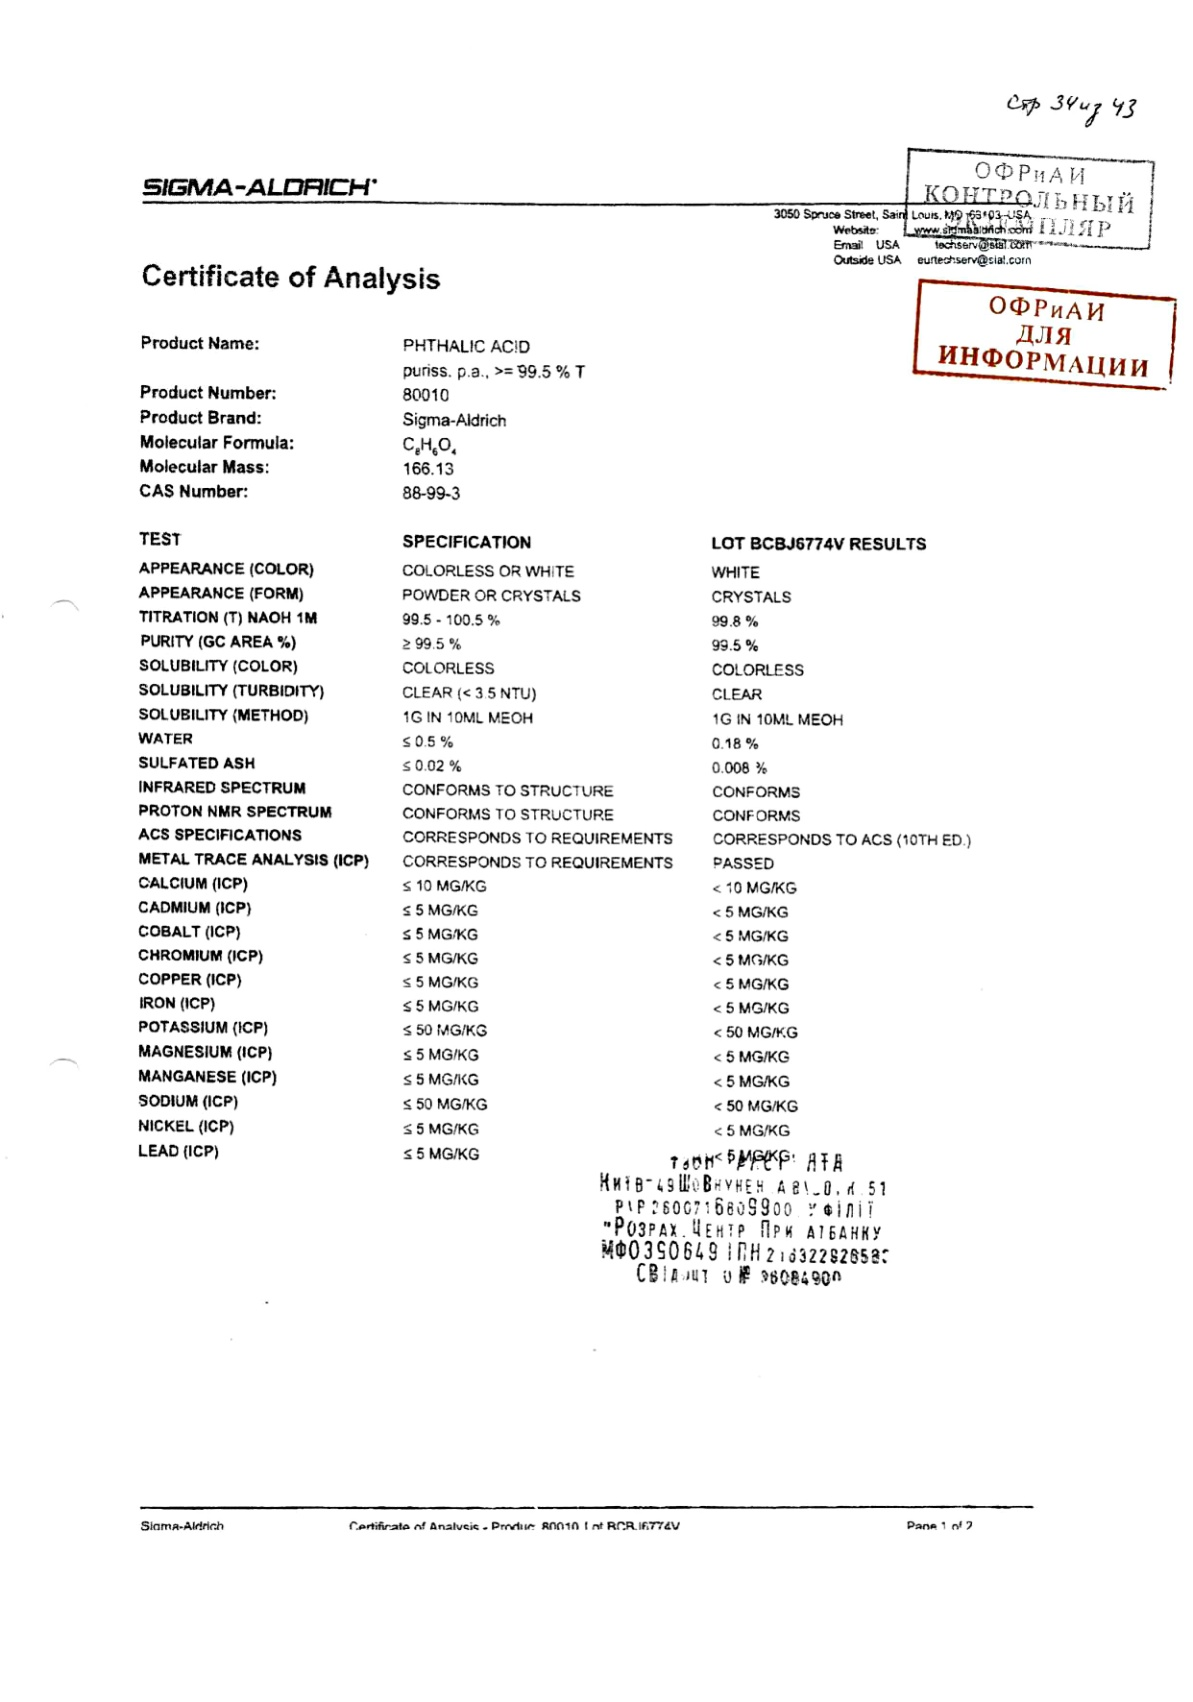nolines: (135, 528, 974, 1165), (138, 331, 586, 502)
